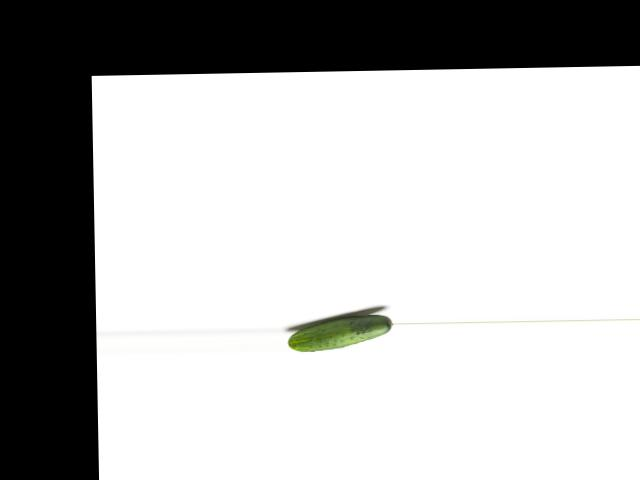cucumber: (288, 313, 394, 352)
